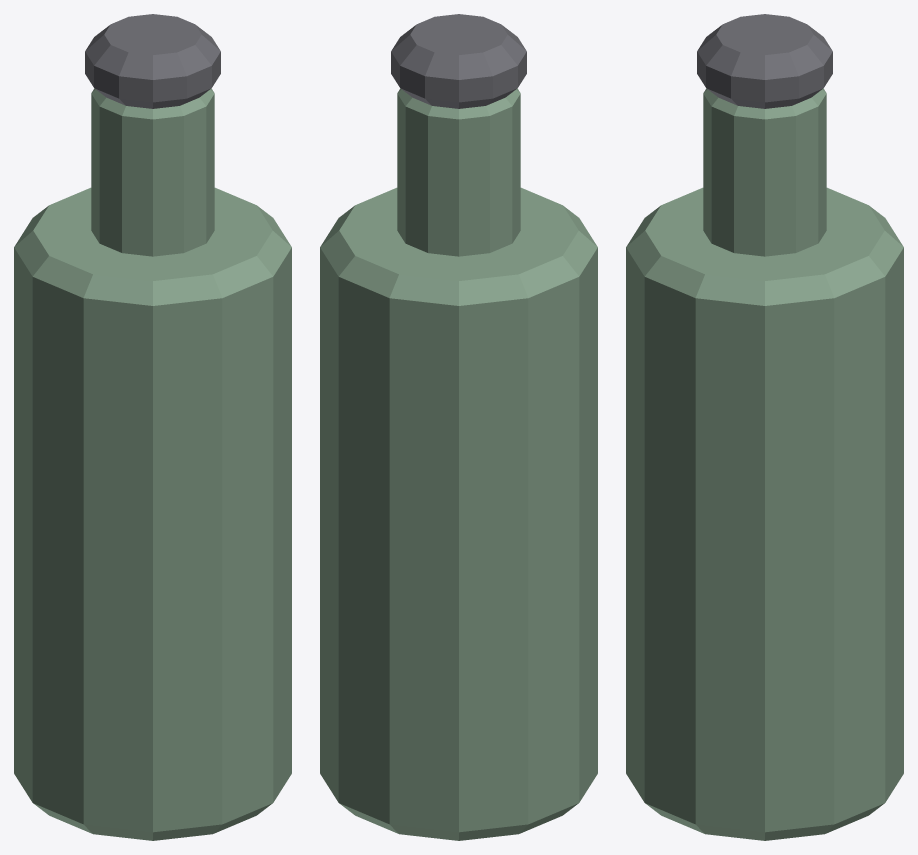
File: SM_Wine_Bottle.fbx
3 renders of one model, left to right at view 1: azimuth 30°, elevation 25°; view 2: azimuth 150°, elevation 25°; view 3: azimuth 270°, elevation 25°, orthographic.
Parts seen in each view (by area): view 1: Wine_Bottle; view 2: Wine_Bottle; view 3: Wine_Bottle.
Boxes of the visible parts, box(x1,y1,x2,y2) form: Wine_Bottle: box(14, 14, 291, 840); Wine_Bottle: box(320, 14, 597, 840); Wine_Bottle: box(626, 14, 903, 840).
Size of the model in its own units: 9 by 27 by 9.
